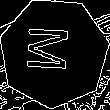M_E: (28, 28, 80, 77)
